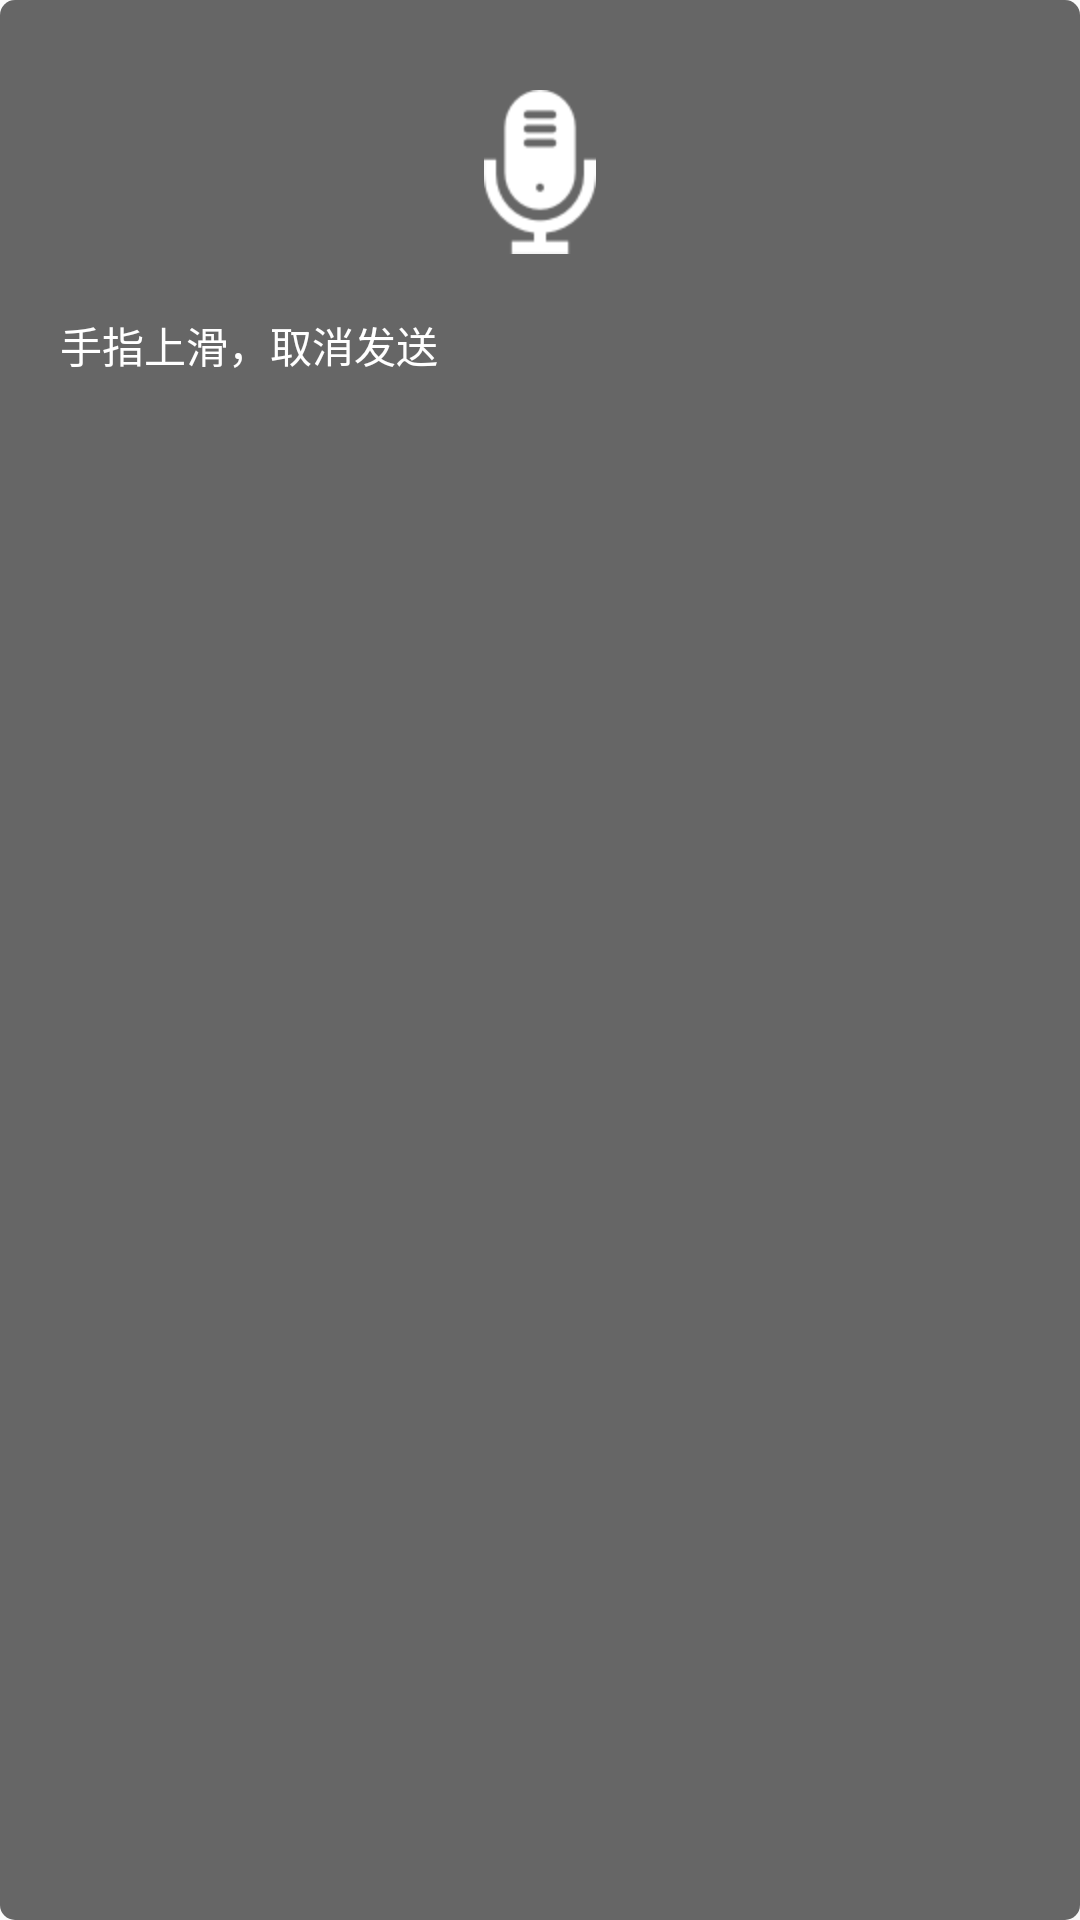

Named icons in this screenshot (1080 x 1920) and their bounding boxes, (x1, y1, x2, y2):
recorder: (484, 90, 596, 254)
